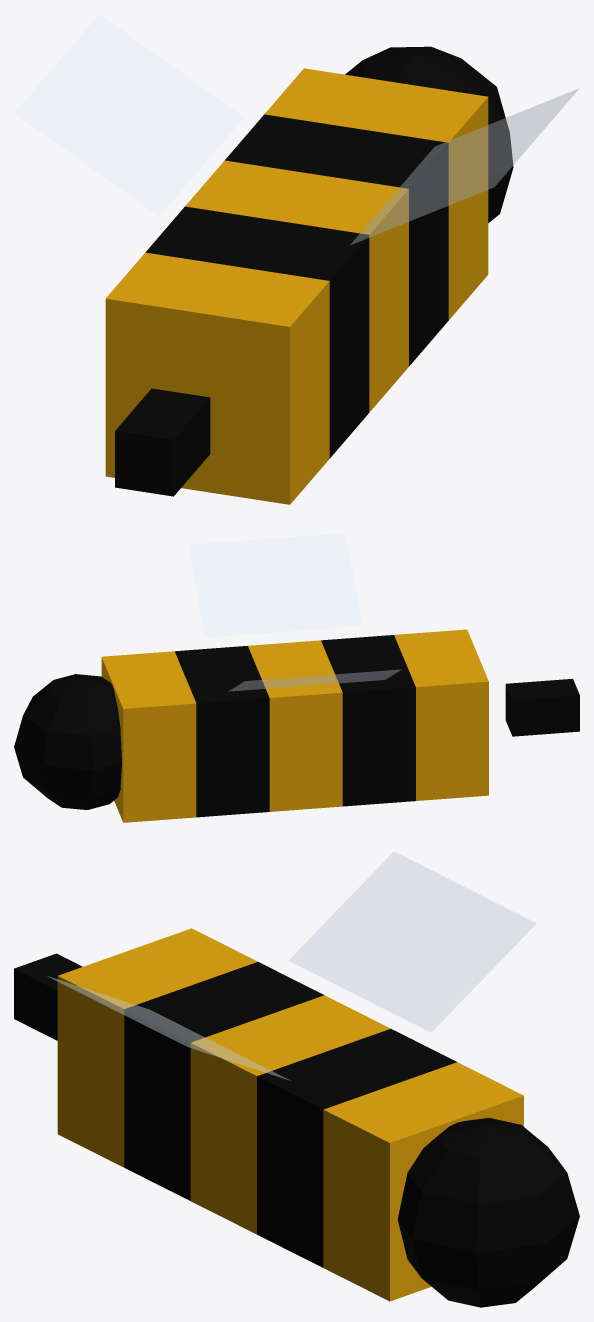
Rendered from abeja.obj.
3 renders of one model, top to bottom at view 1: azimuth 30°, elevation 25°; view 2: azimuth 150°, elevation 25°; view 3: azimuth 270°, elevation 25°, orthographic. The views are drawn at different scales.
Parts seen in each view (by area): view 1: Abeja; view 2: Abeja; view 3: Abeja.
Boxes of the visible parts, <box> form: Abeja: <box>14,14,579,504</box>; Abeja: <box>14,533,579,822</box>; Abeja: <box>14,851,579,1307</box>.
Bounding box in the file's own units: 0.8162 × 0.35 × 0.712.
